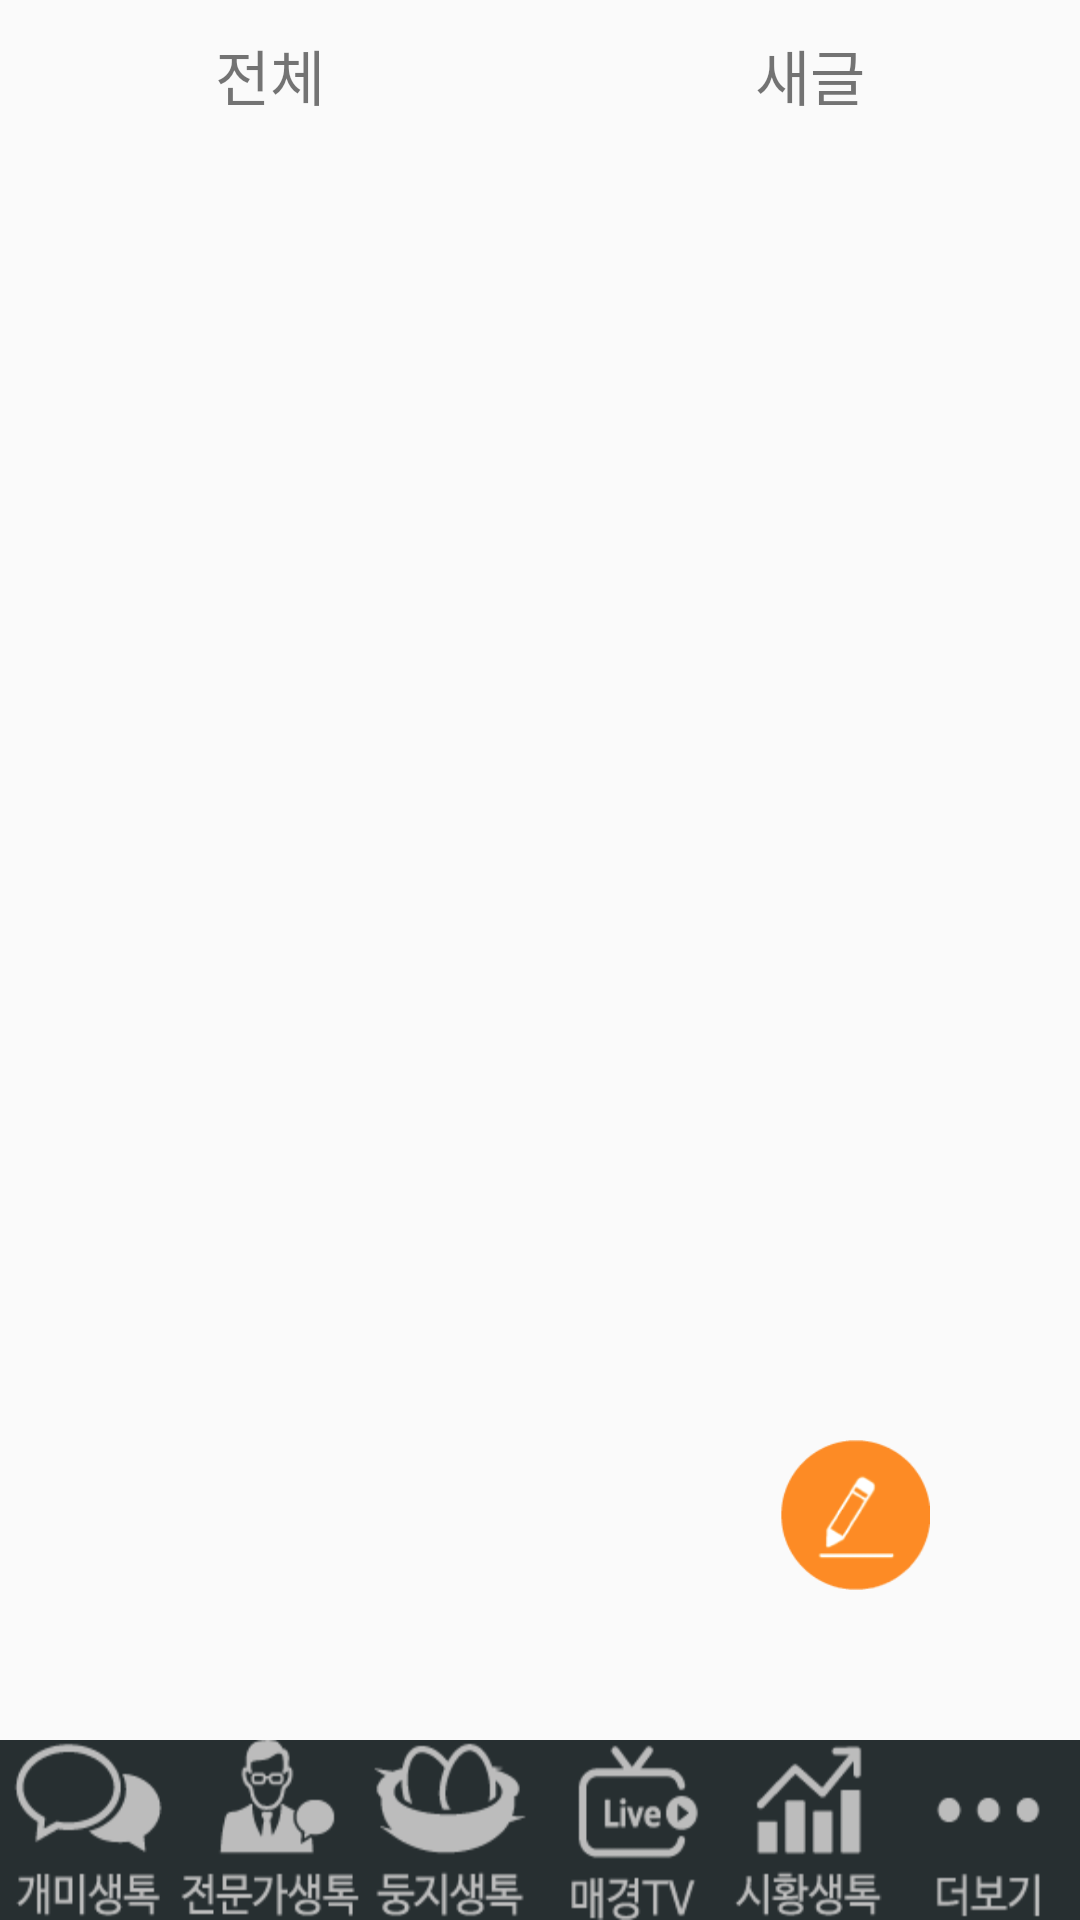

Icon bounding boxes for this 1080px x 1920px phone screenshot, format detection(x1, y1, x2, y2):
write: detection(781, 1440, 930, 1590)
